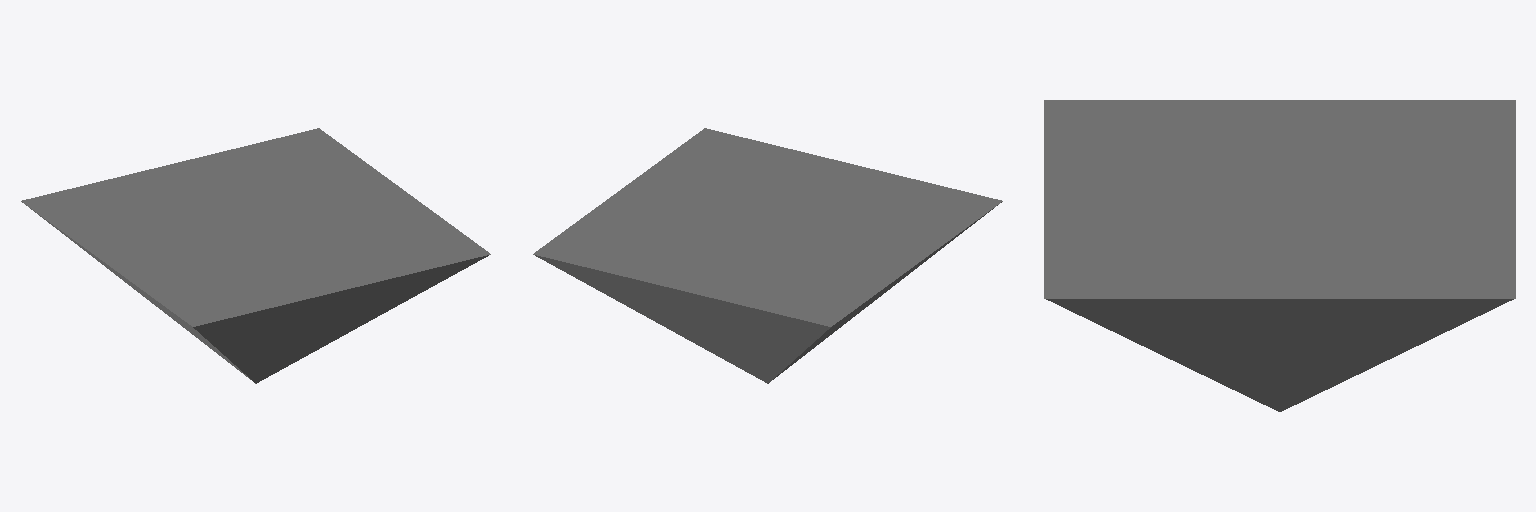
URDF robot description (camera):
<?xml version="1.0"?>
<robot name="camera">
    <link name="base">
        <visual>
            <geometry>
                <mesh filename="camera.obj" scale="1 1 1"/>
            </geometry>
            <material name="gray">
                <color rgba="0.5 0.5 0.5 1"/>
            </material>
        </visual>
        <collision>
            <geometry>
                <mesh filename="camera.obj" scale="1 1 1"/>
            </geometry>
        </collision>
        <inertial>
            <mass value="1.0"/>
            <inertia ixx="0.01" ixy="0" ixz="0" iyy="0.01" iyz="0" izz="0.01"/>
        </inertial>
    </link>
</robot>

--- Facts derived from the render (not from the file) ---
3 views of the same robot in one strip: view 1: azimuth 30°, elevation 25°; view 2: azimuth 150°, elevation 25°; view 3: azimuth 270°, elevation 25° (orthographic).
Model camera with 1 links and 0 joints (none), rooted at base, posed all joints at 0.
Visible links, largest first — view 1: base; view 2: base; view 3: base.
Boxes of the visible links, bbox=[...] form: base: bbox=[21, 128, 490, 383]; base: bbox=[533, 128, 1002, 383]; base: bbox=[1044, 100, 1515, 411].
Bounding box of the posed robot: 0.1 × 0.1 × 0.05 m (x, y, z).
1 mesh visuals loaded from 1 distinct referenced files (1 OBJ).